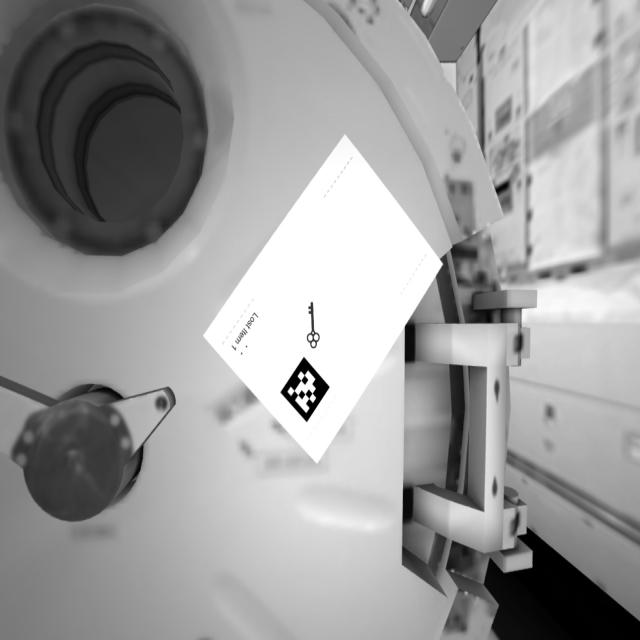key: (303, 299, 324, 351)
